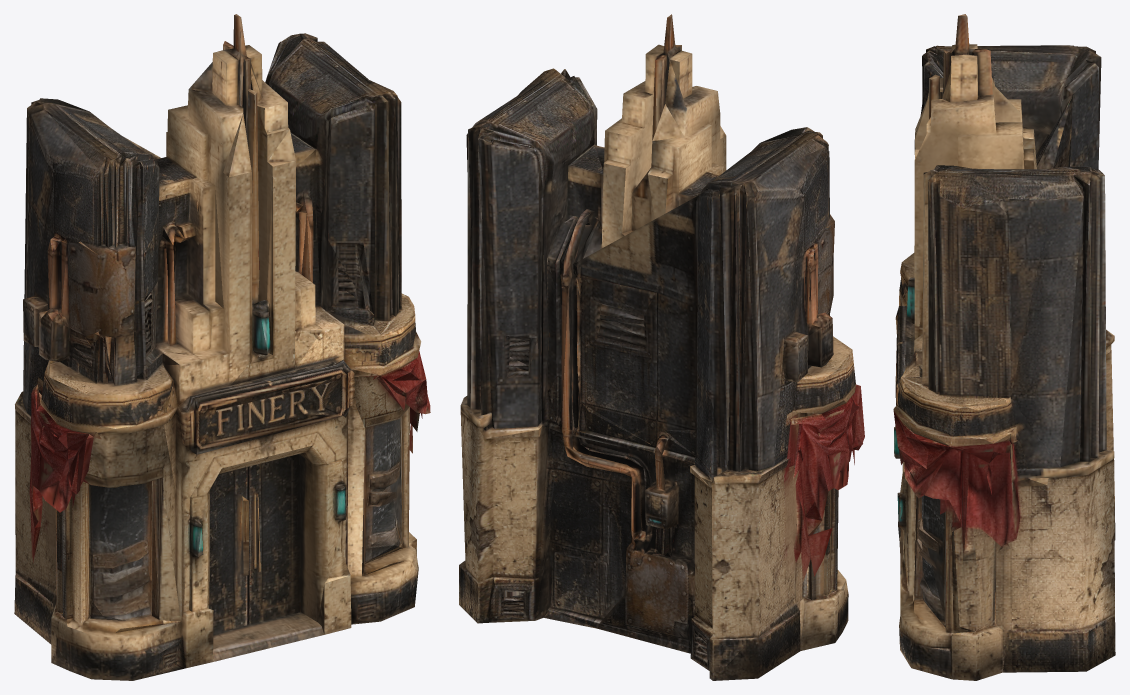
File: finery.fbx
The picture shows the model from 3 angles, left to right: view 1: azimuth 30°, elevation 25°; view 2: azimuth 150°, elevation 25°; view 3: azimuth 270°, elevation 25°; orthographic projection. The views are drawn at different scales.
Parts seen in each view (by area): view 1: Mesh_0; view 2: Mesh_0; view 3: Mesh_0.
Boxes of the visible parts, x1,y1,x2,y2 form: Mesh_0: (14, 14, 430, 680); Mesh_0: (459, 14, 864, 680); Mesh_0: (893, 14, 1115, 680).
Bounding box in the file's own units: 121 × 190 × 65.59.
1 material, 1 textured.
